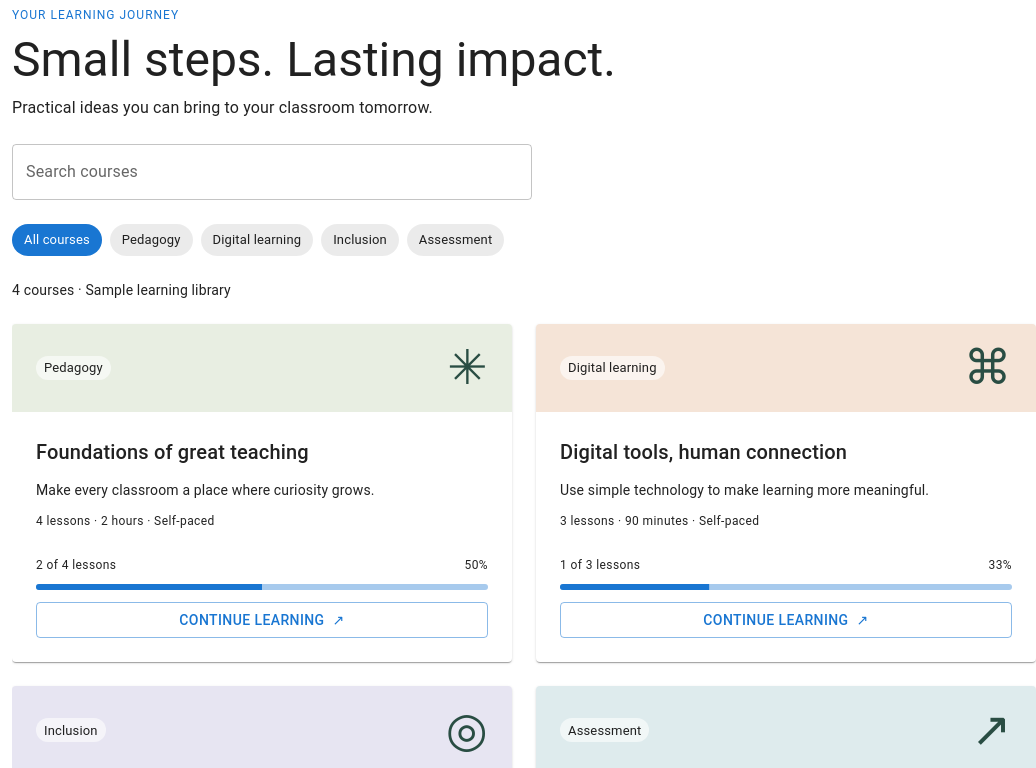
course learning › combines category and search filters and offers a meaningful empty state
Click the button "Inclusion" at {"x": 360, "y": 240}, box [321, 224, 399, 256]
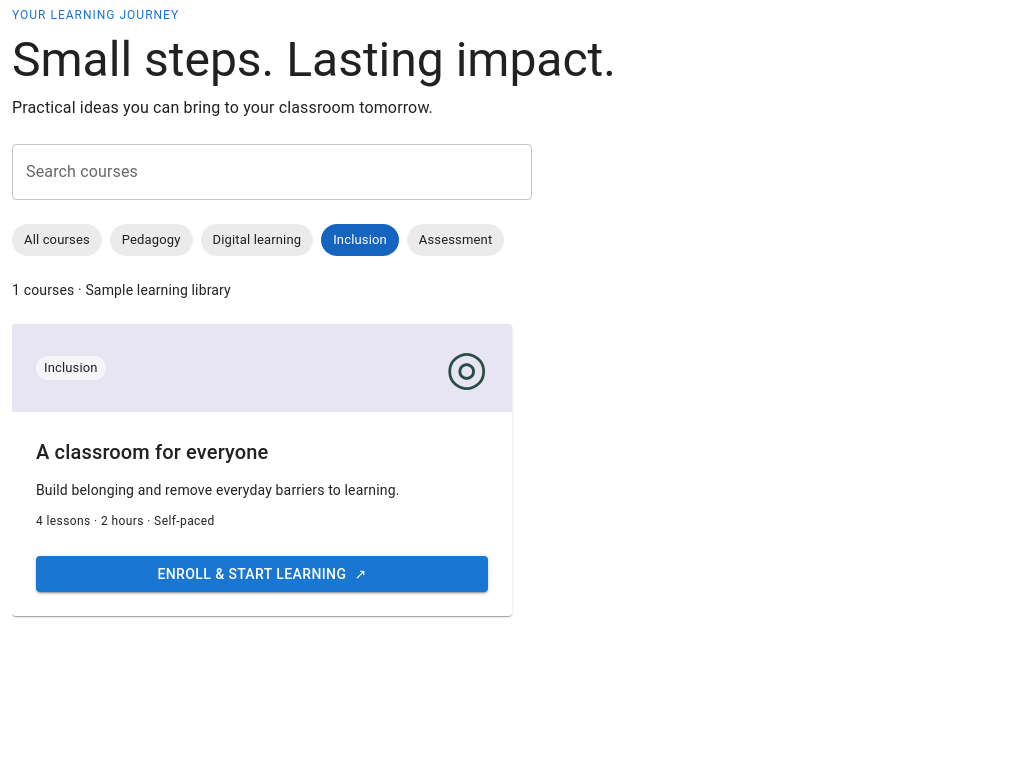
expect the heading "A classroom for everyone" is shown: met, box [36, 440, 268, 464]
expect the heading "Foundations of great teaching" is gone: met
Type "digital" into the field labelled "Search courses" at {"x": 272, "y": 172}, box [12, 144, 532, 200]
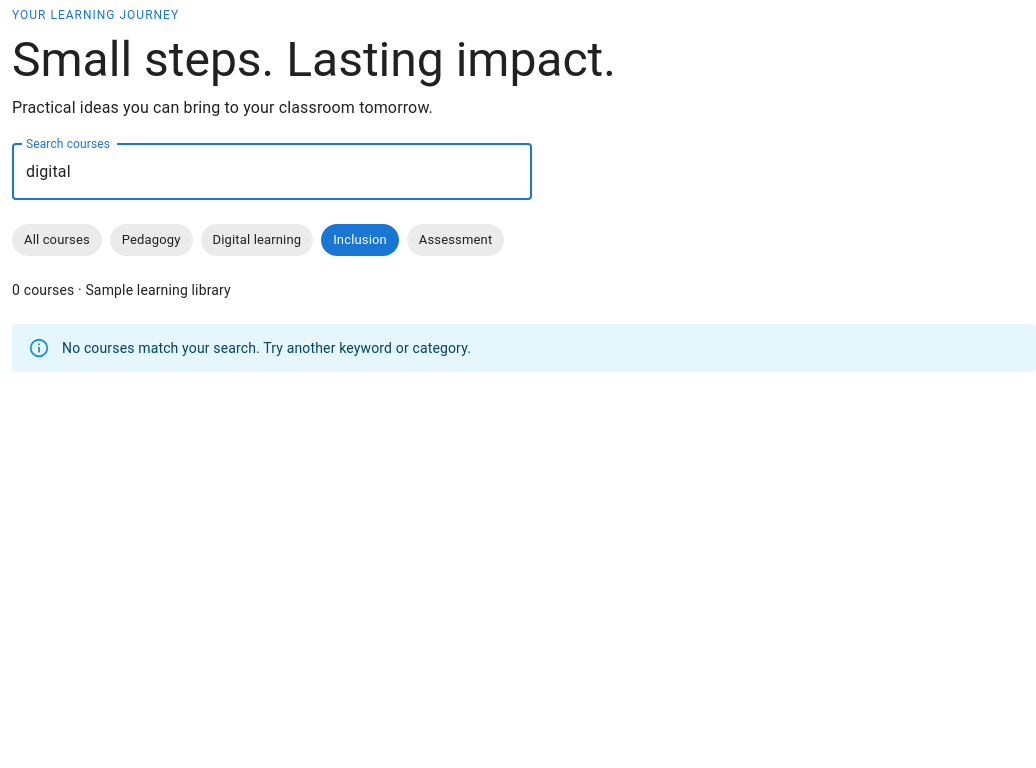
expect the message shows "No courses match": met, box [62, 340, 471, 356]
Click the button "All courses" at {"x": 57, "y": 240}, box [12, 224, 102, 256]
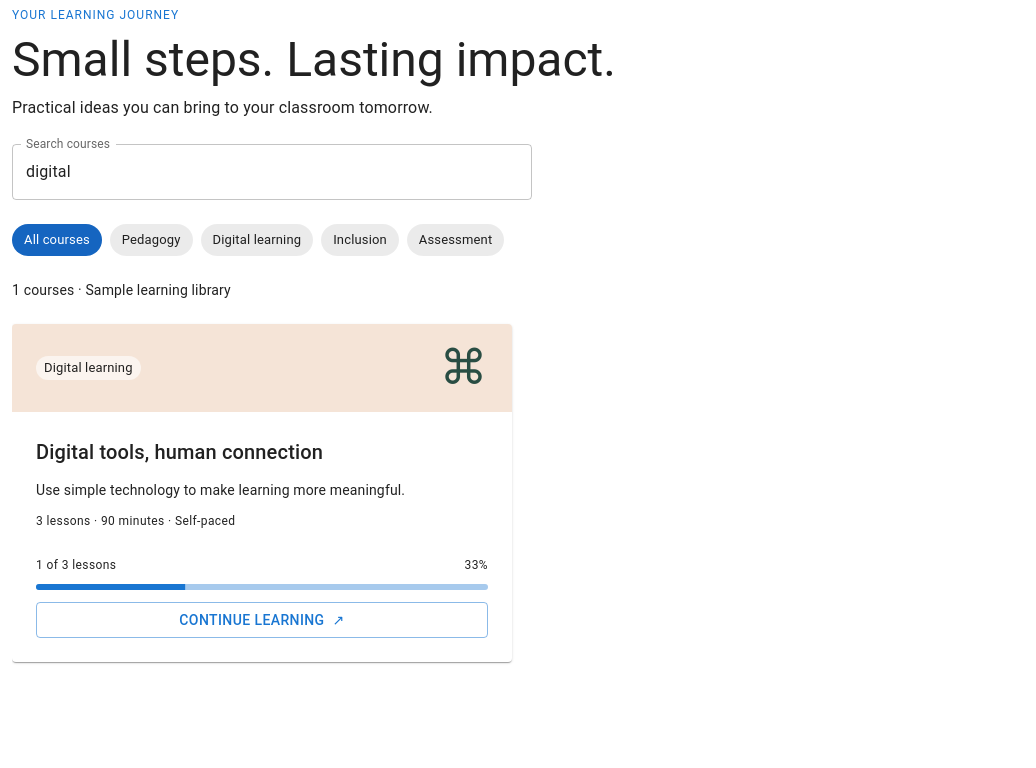
expect the heading "Digital tools, human connection" is shown: met, box [36, 440, 323, 464]
